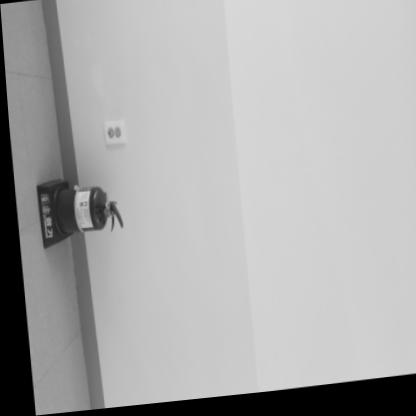FE: (32, 179, 119, 248)
